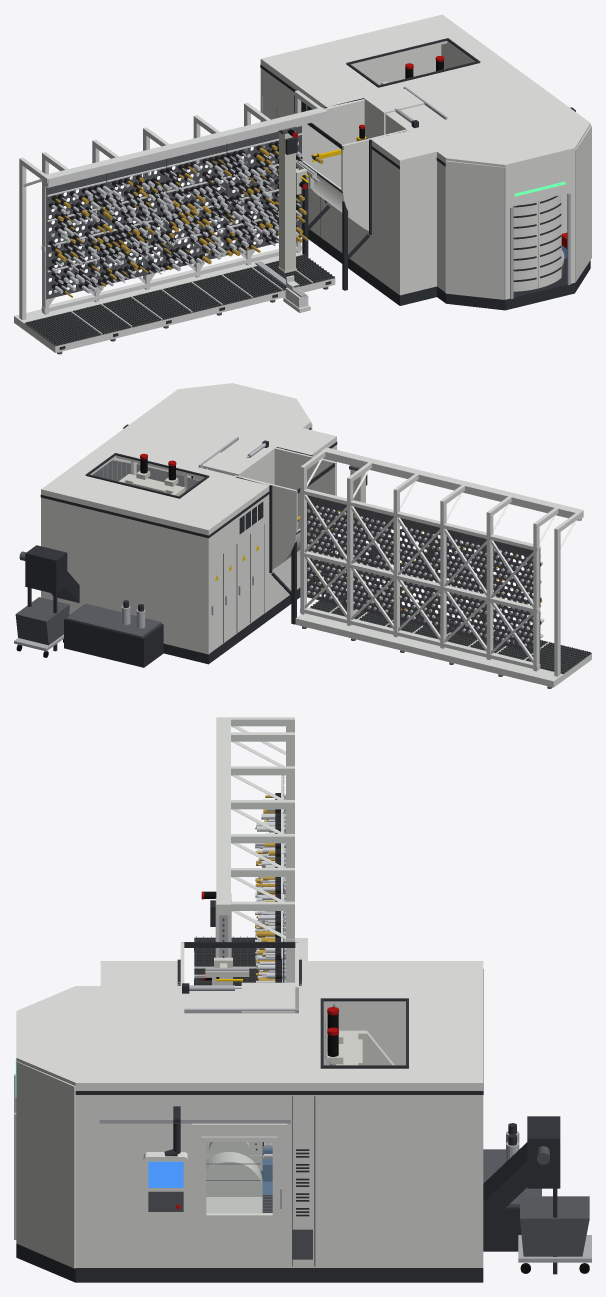
The model's file is clock1200evo_fms_sidemag.glb.
3 renders of one model, top to bottom at view 1: azimuth 30°, elevation 25°; view 2: azimuth 150°, elevation 25°; view 3: azimuth 270°, elevation 25°, orthographic. The views are drawn at different scales.
Visible parts, largest first — view 1: enclosure__evo_white, apc_housing__evo_white, twm_frame__truss_white, twm_tools__holder, twm_frame__anthracite_lt, twm_tools__tool_bright, twm_base__grating, tc_box__evo_white, twm_base__truss_white, enclosure__anthracite, twm_tools__tool_gold, mag_loader__struct_grey (+9 smaller); view 2: enclosure__evo_white, twm_frame__truss_white, twm_frame__anthracite_lt, chip_coolant__anthracite, electrical_cabinet__evo_white, twm_tools__steel, twm_base__truss_white, tc_box__evo_white, enclosure__anthracite, apc_housing__evo_white, twm_base__grating, chip_cart__steel_dark (+6 smaller); view 3: enclosure__evo_white, apc_housing__evo_white, twm_frame__truss_white, enclosure__anthracite, chip_coolant__anthracite, operator_door__evo_white, operator_door__glass_clear, chip_cart__steel_dark, table__struct_grey, twm_tools__tool_bright, enclosure__steel, column__struct_grey (+11 smaller).
Boxes of the visible parts, <box> form: enclosure__evo_white: <box>260,14,580,295</box>; apc_housing__evo_white: <box>437,116,591,299</box>; twm_frame__truss_white: <box>19,90,327,320</box>; twm_tools__holder: <box>48,141,302,294</box>; twm_frame__anthracite_lt: <box>46,126,301,299</box>; twm_tools__tool_bright: <box>51,144,303,293</box>; twm_base__grating: <box>25,254,334,346</box>; tc_box__evo_white: <box>302,99,407,230</box>; twm_base__truss_white: <box>14,252,335,352</box>; enclosure__anthracite: <box>260,38,480,305</box>; twm_tools__tool_gold: <box>55,145,308,297</box>; mag_loader__struct_grey: <box>278,131,296,273</box>; enclosure__evo_white: <box>41,395,336,654</box>; twm_frame__truss_white: <box>300,447,583,676</box>; twm_frame__anthracite_lt: <box>307,495,540,653</box>; chip_coolant__anthracite: <box>25,545,163,667</box>; electrical_cabinet__evo_white: <box>210,523,263,652</box>; twm_tools__steel: <box>306,505,533,646</box>; twm_base__truss_white: <box>295,600,591,687</box>; tc_box__evo_white: <box>236,447,336,569</box>; enclosure__anthracite: <box>40,440,337,664</box>; apc_housing__evo_white: <box>170,383,312,477</box>; twm_base__grating: <box>310,593,591,673</box>; chip_cart__steel_dark: <box>15,597,69,645</box>; enclosure__evo_white: <box>100,961,483,1267</box>; apc_housing__evo_white: <box>16,986,100,1268</box>; twm_frame__truss_white: <box>216,717,294,982</box>; enclosure__anthracite: <box>100,959,483,1282</box>; chip_coolant__anthracite: <box>483,1116,560,1274</box>; operator_door__evo_white: <box>191,1123,287,1231</box>; operator_door__glass_clear: <box>207,1142,271,1213</box>; chip_cart__steel_dark: <box>520,1196,589,1256</box>; table__struct_grey: <box>206,1142,262,1212</box>; twm_tools__tool_bright: <box>255,799,275,982</box>; enclosure__steel: <box>99,985,298,1123</box>; column__struct_grey: <box>327,1030,394,1065</box>.
Bounding box in the file's own units: 11.15 × 3.54 × 7.86.
